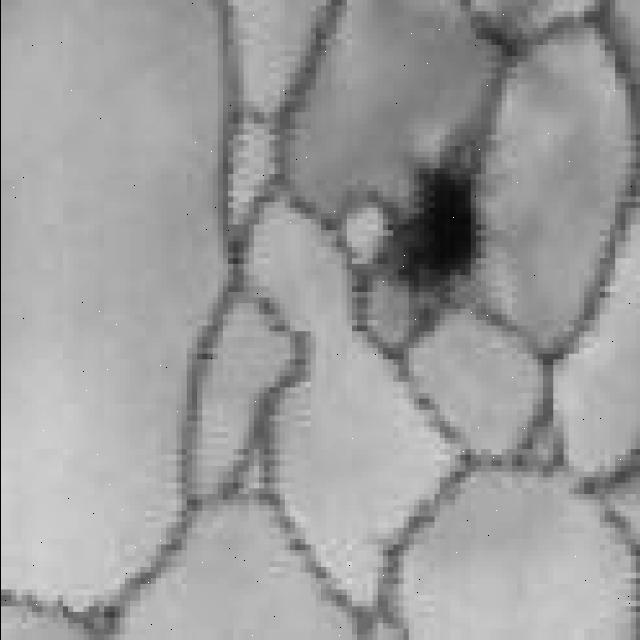good_void: (385, 157, 482, 290)
